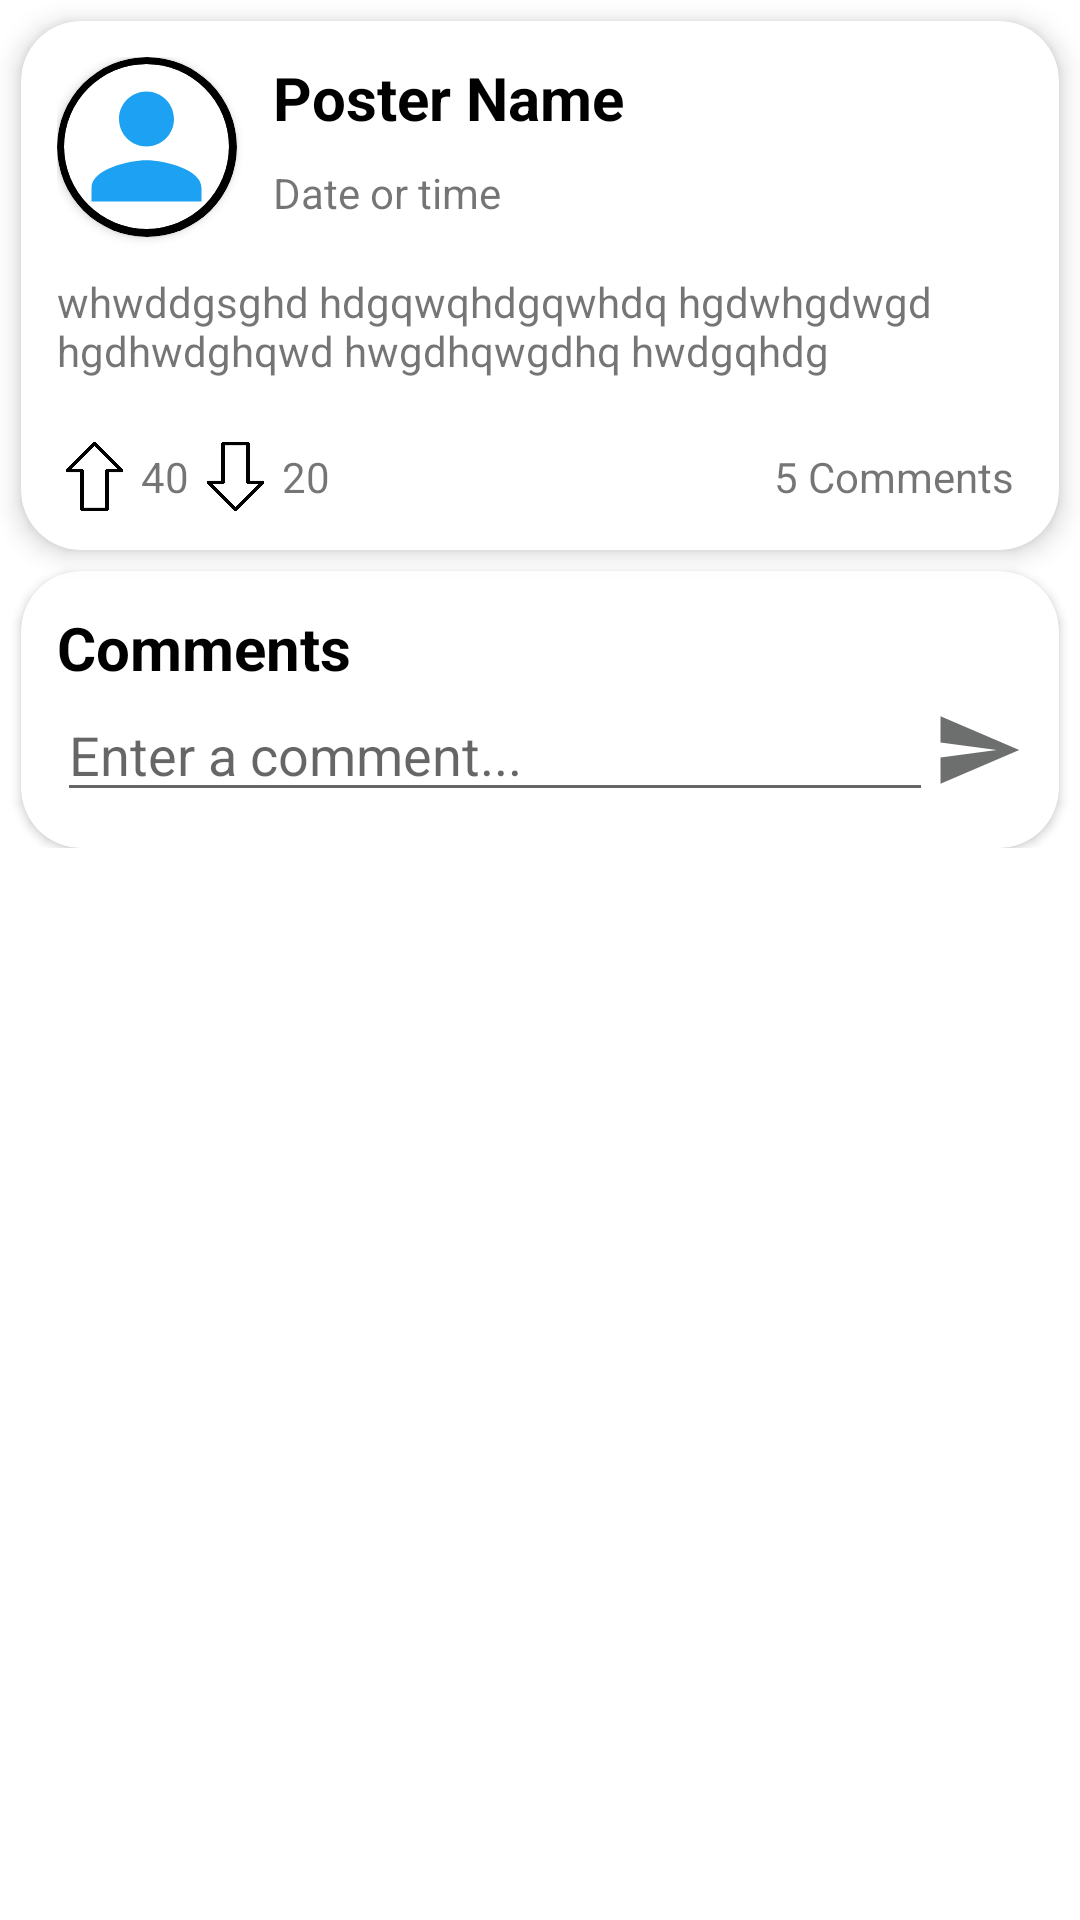

Icon click points for this 1080px×1920px phone screenshot, format point (x, y):
arrow down: point (235, 476)
arrow up: point (94, 476)
person: point (146, 146)
send: point (979, 750)
